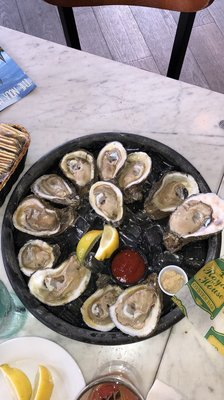sushi: (1, 129, 222, 349), (0, 336, 86, 400)
